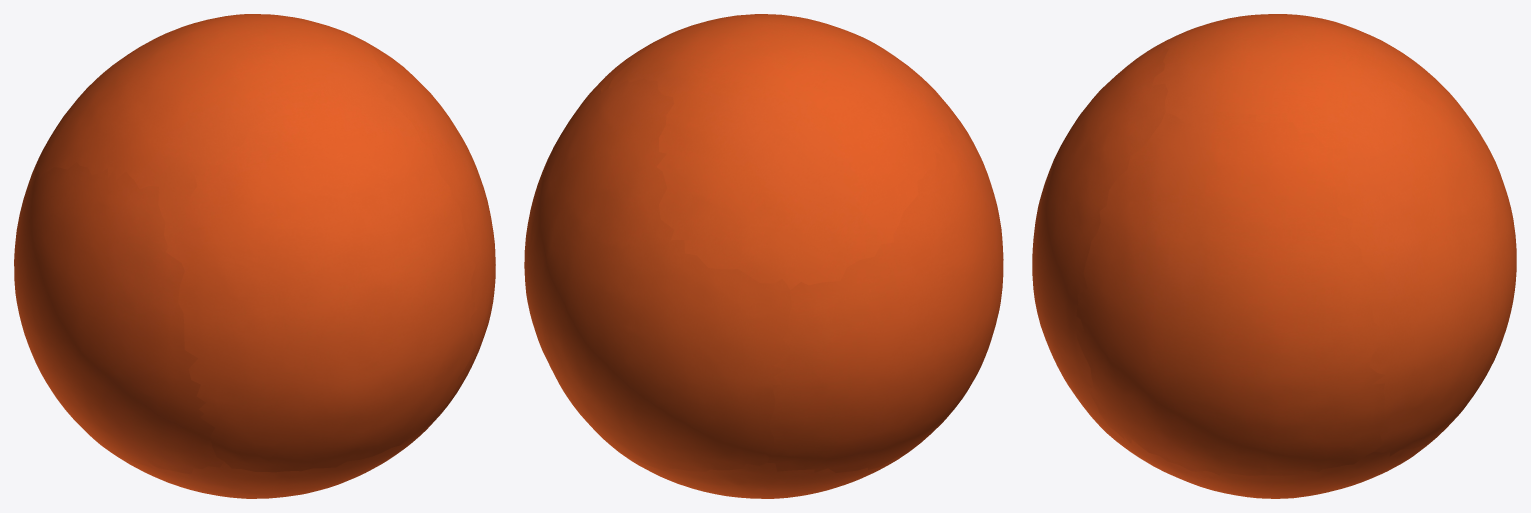
File: ball.glb
3 renders of one model, left to right at view 1: azimuth 30°, elevation 25°; view 2: azimuth 150°, elevation 25°; view 3: azimuth 270°, elevation 25°, orthographic.
Visible parts, largest first — view 1: Ball; view 2: Ball; view 3: Ball.
Part boxes in pixels (<box>): Ball: <box>14,14,495,498</box>; Ball: <box>524,14,1003,498</box>; Ball: <box>1032,14,1516,498</box>.
Size of the model in its own units: 1.98 by 1.99 by 1.98.
1 material, 1 textured.
